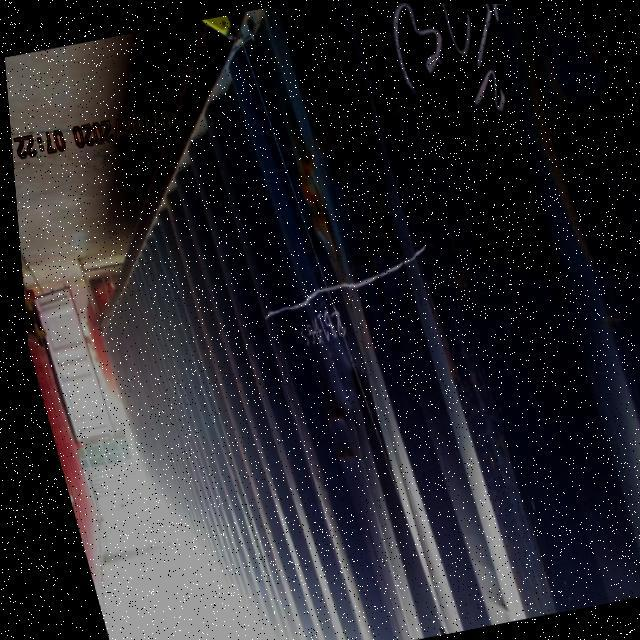rust: (299, 69, 426, 299)
